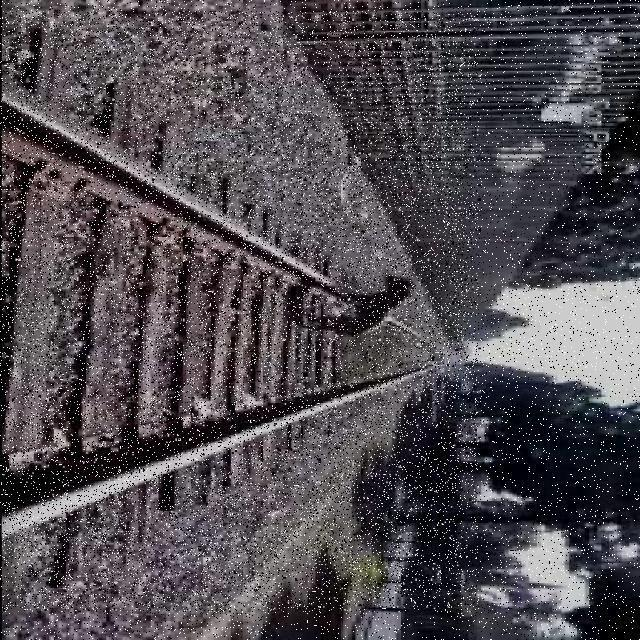rail: (1, 13, 480, 613)
